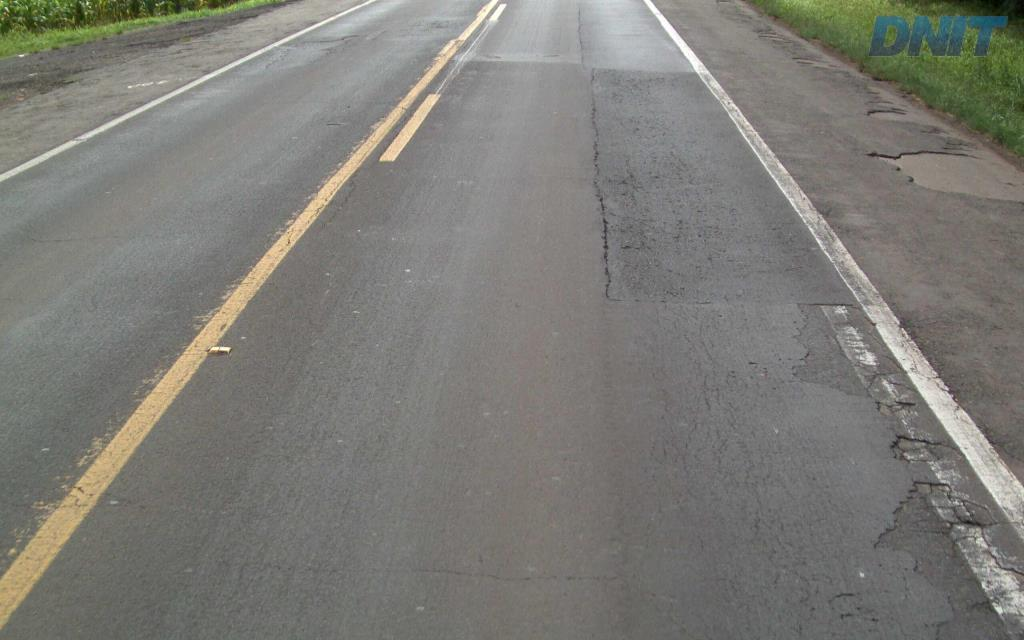pothole: (868, 477, 1022, 638), (882, 429, 966, 467), (866, 395, 918, 419)
